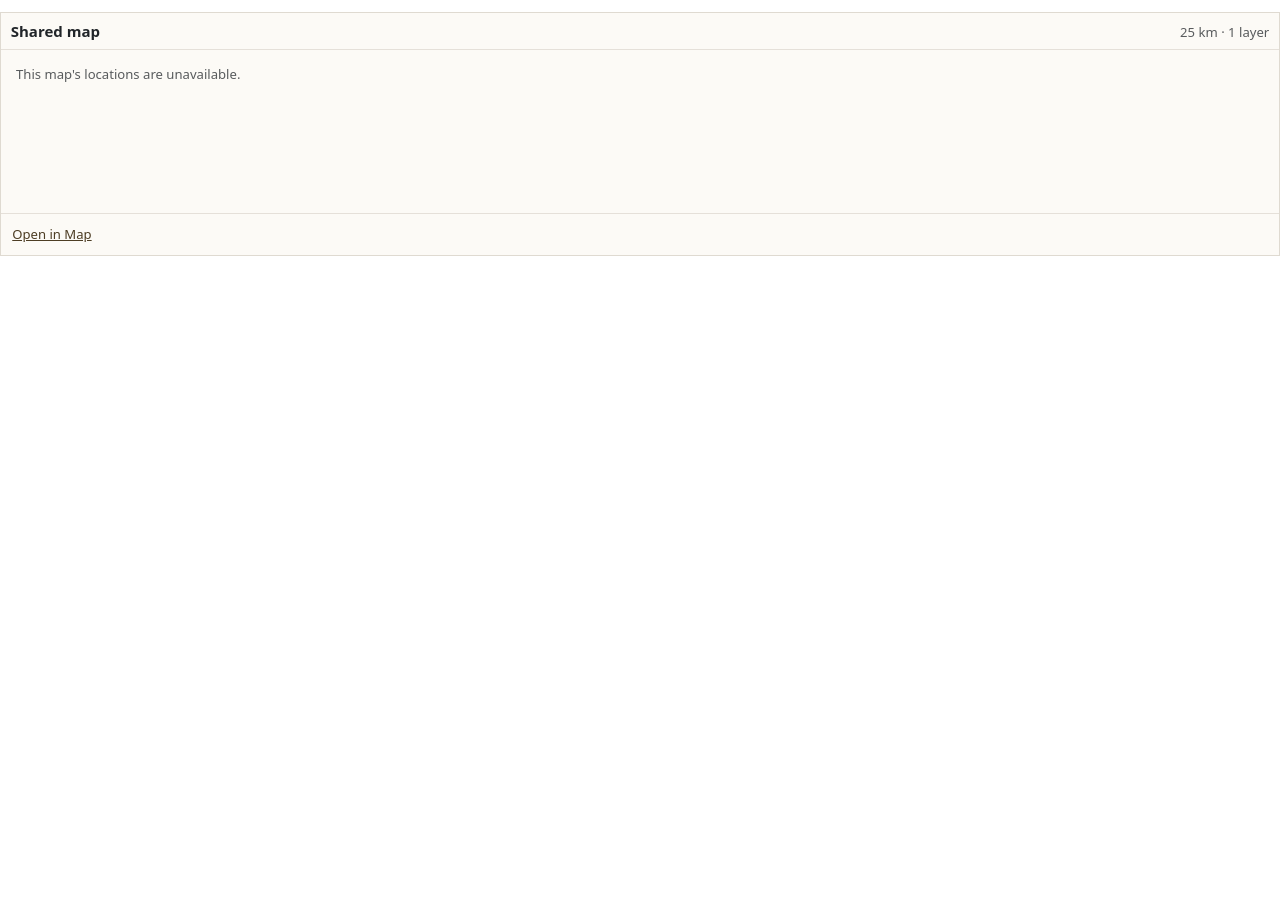
Test: keeps the original SOURCE graph on a profile wall and in its opened modal
Click the button with aria-label "Open shared map: Shared map": (640, 114) [1,13,1279,214]
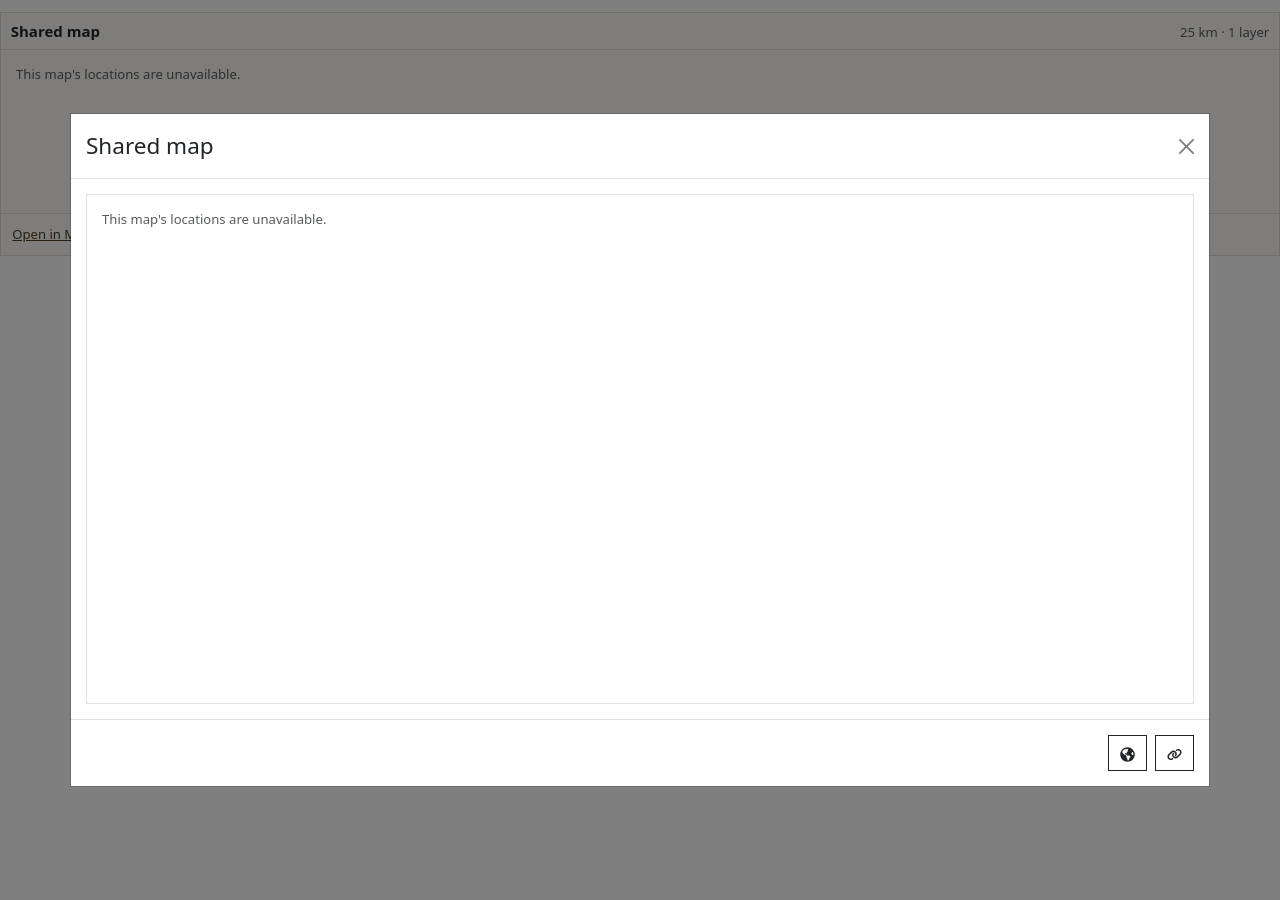
Expected: the dialog is shown
